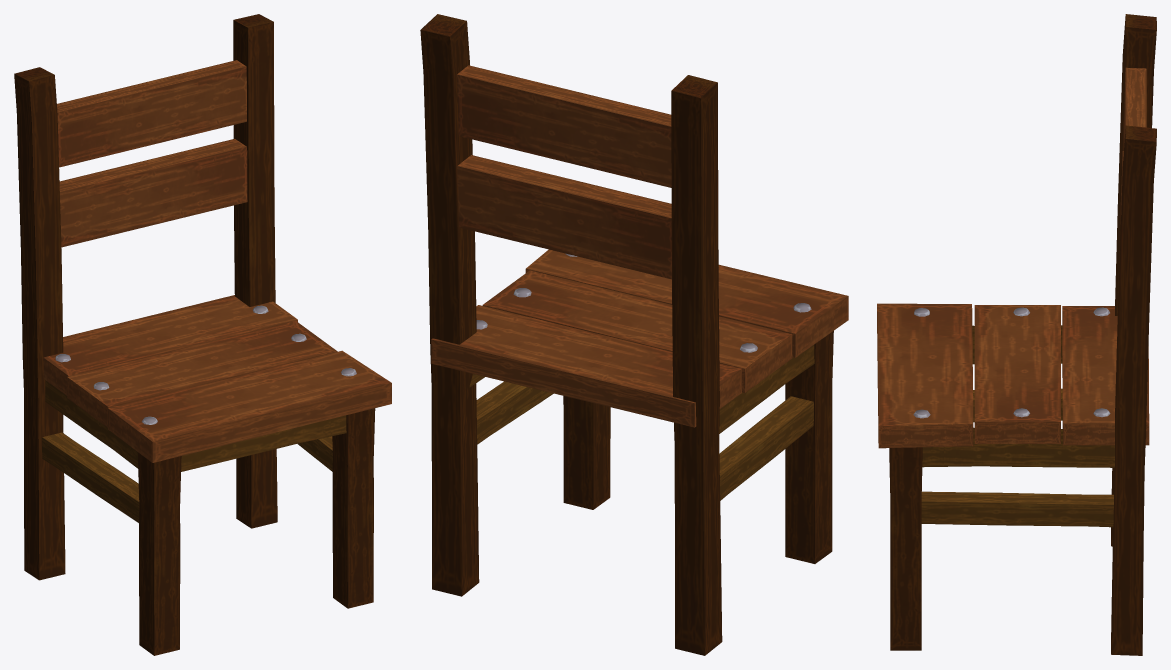
The model's file is chair_1.glb.
3 renders of one model, left to right at view 1: azimuth 30°, elevation 25°; view 2: azimuth 150°, elevation 25°; view 3: azimuth 270°, elevation 25°, orthographic. The views are drawn at different scales.
Visible parts, largest first — view 1: Chair_1; view 2: Chair_1; view 3: Chair_1.
Part boxes in pixels (x1,y1,x2,y2): Chair_1: [14, 14, 391, 655]; Chair_1: [420, 14, 848, 655]; Chair_1: [877, 14, 1156, 655].
Size of the model in its own units: 0.5805 by 1.12 by 0.5489.
2 materials, 2 textured.
